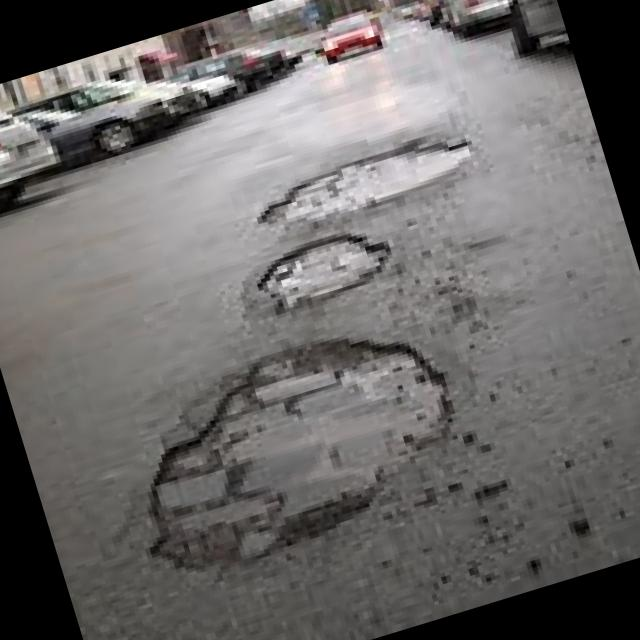Potholes: (81, 274, 520, 602), (221, 96, 529, 260), (223, 194, 457, 350)
